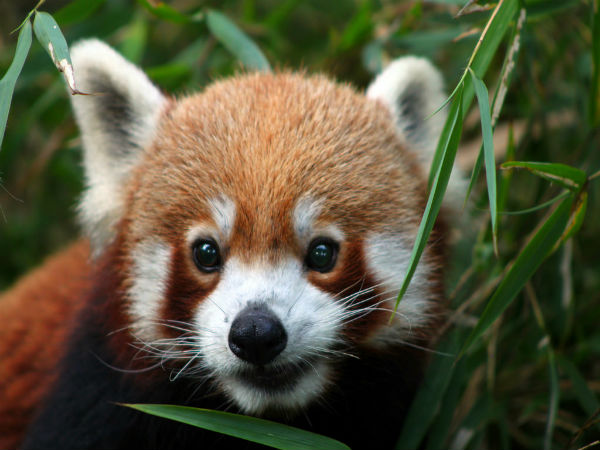red_panda: (19, 37, 468, 448)
